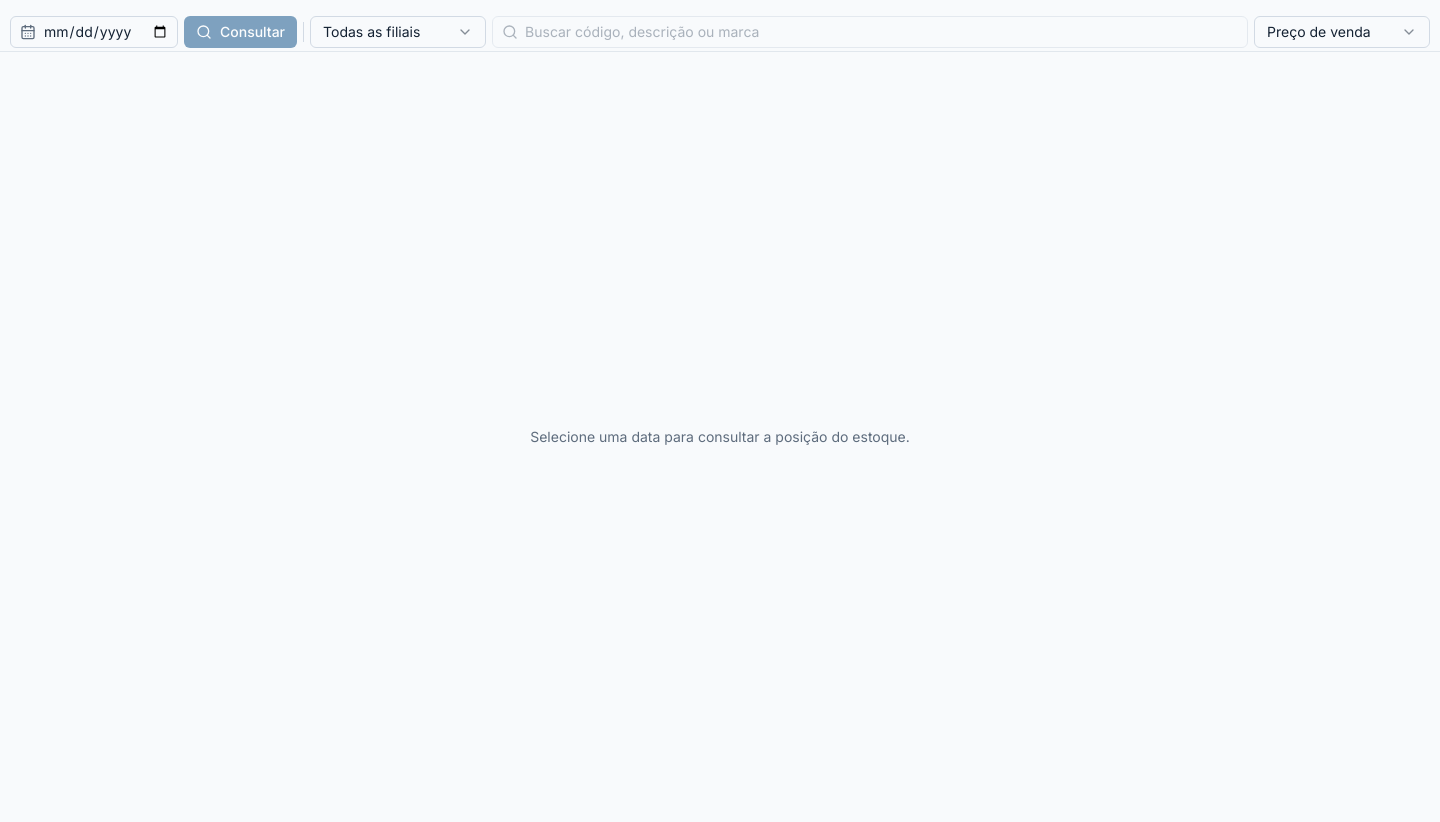
EstoqueRetroativoPage › informa quantos registros estao visiveis quando o resultado ultrapassa 500 itens
Type "2026-08-31" into the date field named "Data do estoque" at (94, 32), box [10,16,178,48]
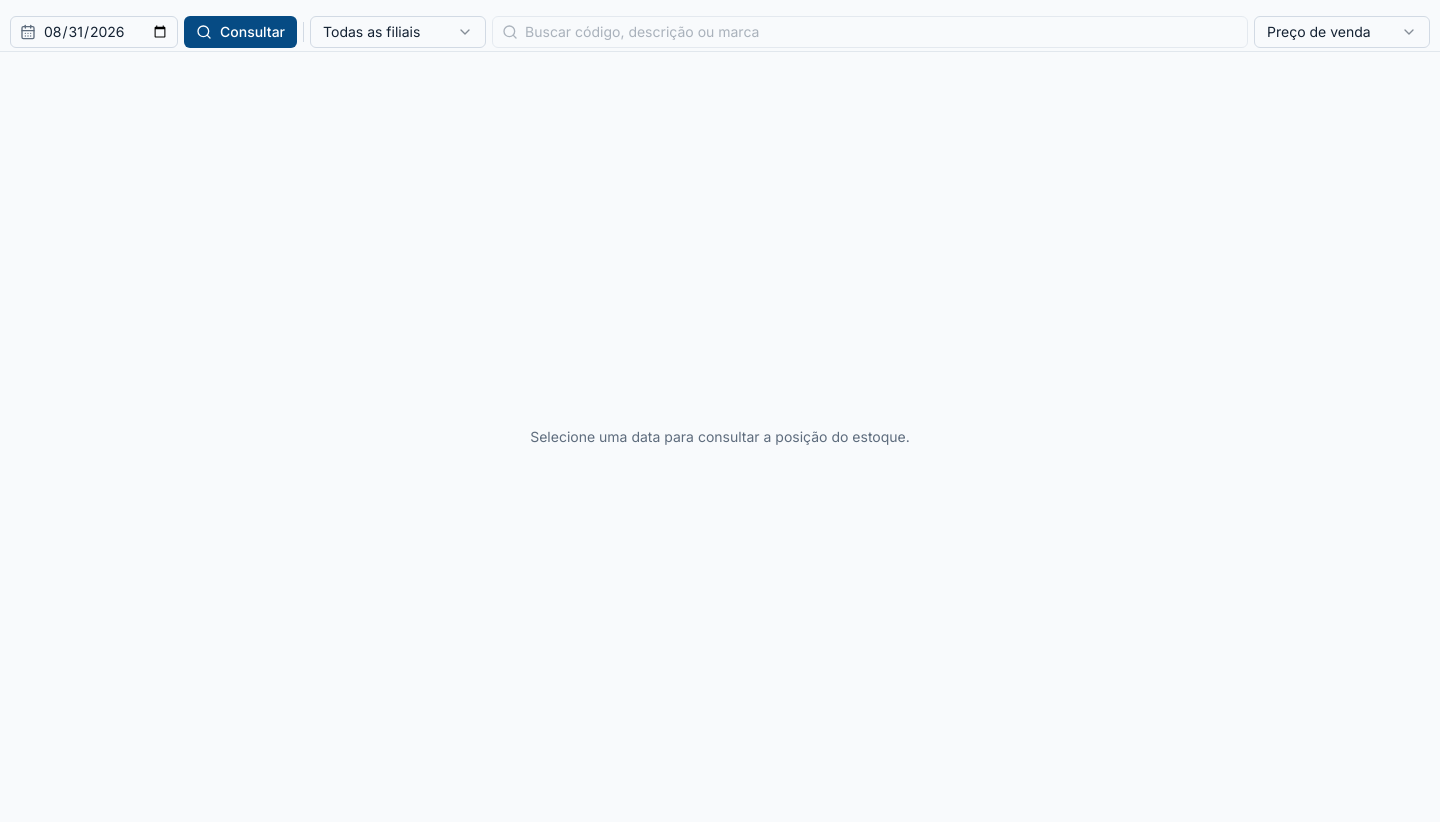
Click the button "Consultar" at (240, 32), box [184,16,297,48]
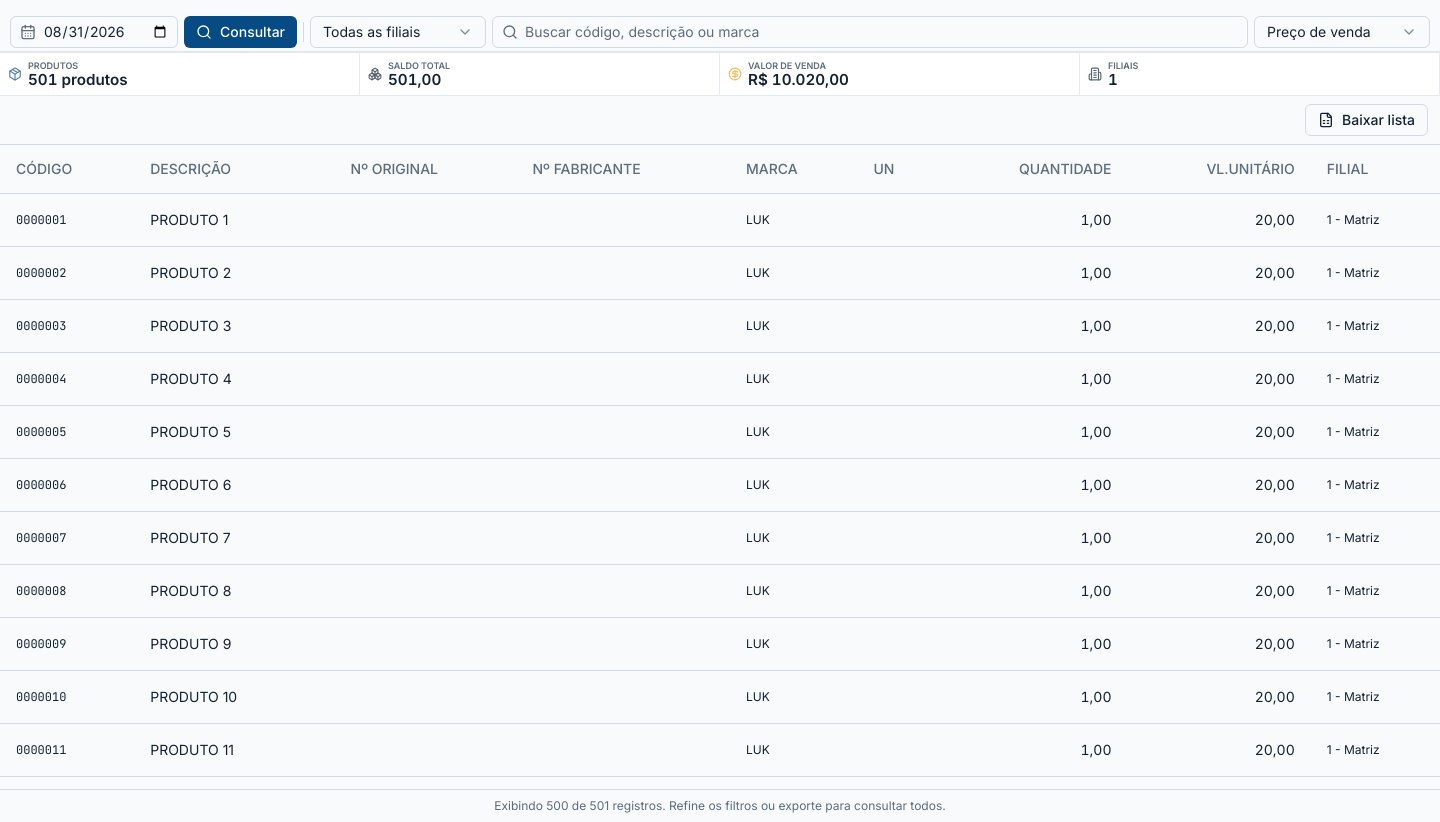
Expected: the text "501 produtos" is shown, [28,70,128,89]
Expected: the text "Exibindo 500 de 501 registros. Refine os filtros ou exporte para consultar todos." is shown, [0,789,1439,821]
